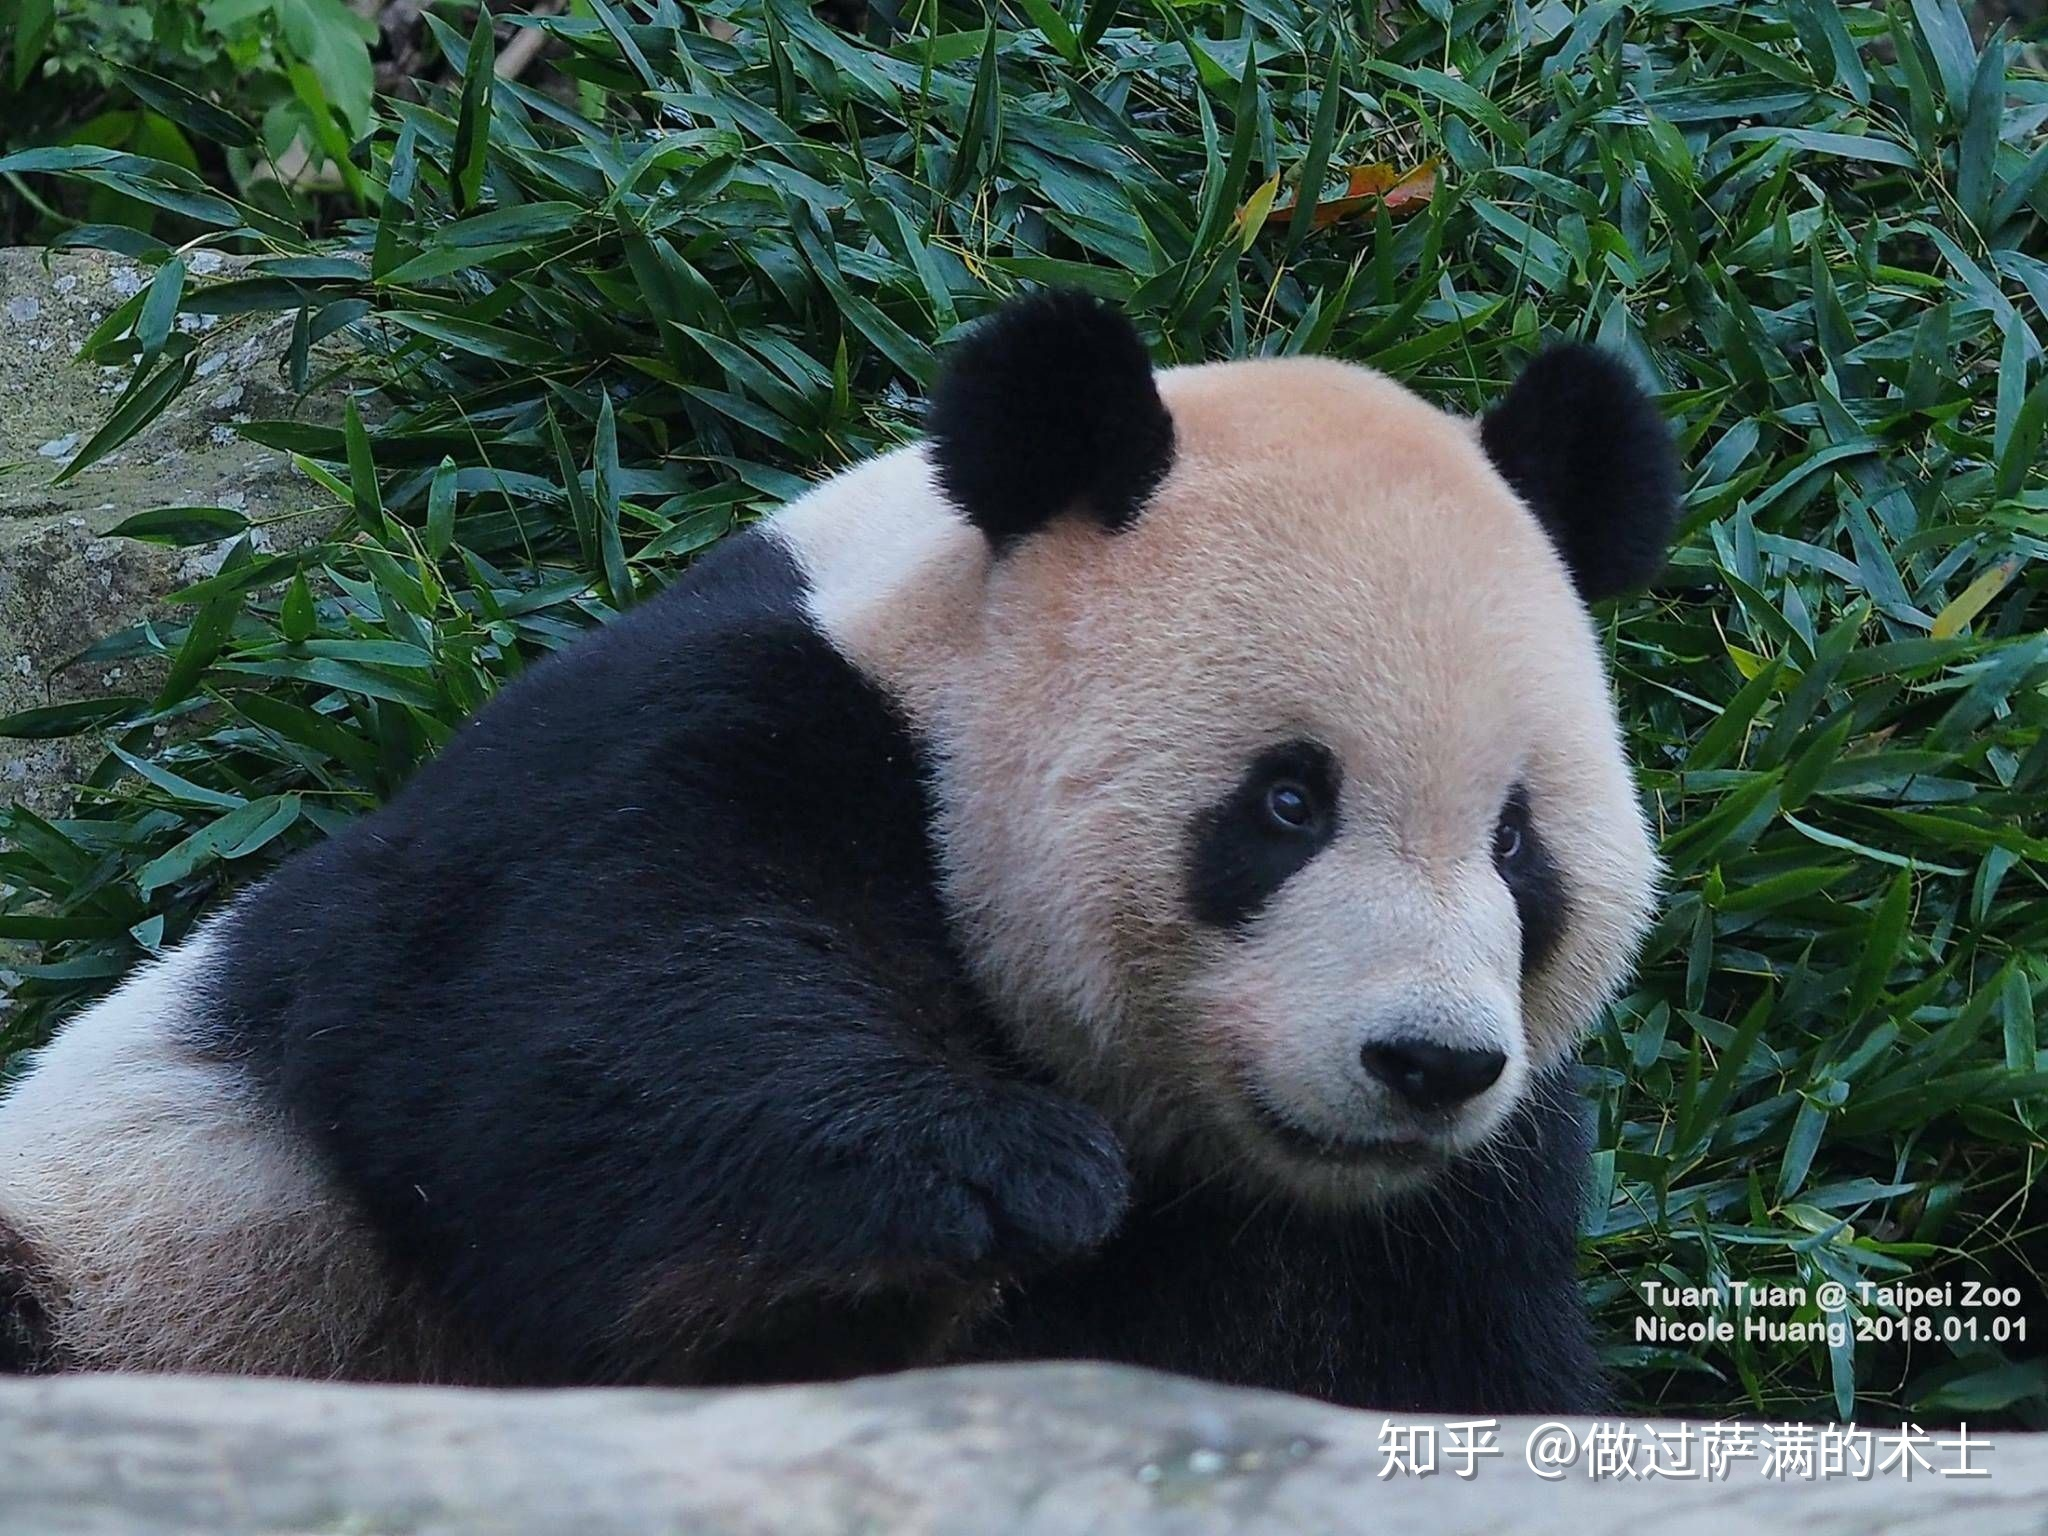panda: (66, 219, 1679, 1400)
